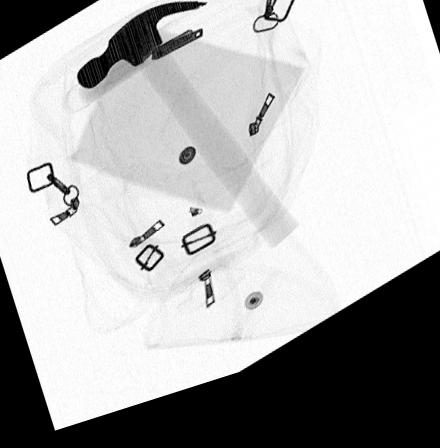Hammer: (77, 11, 300, 264)
